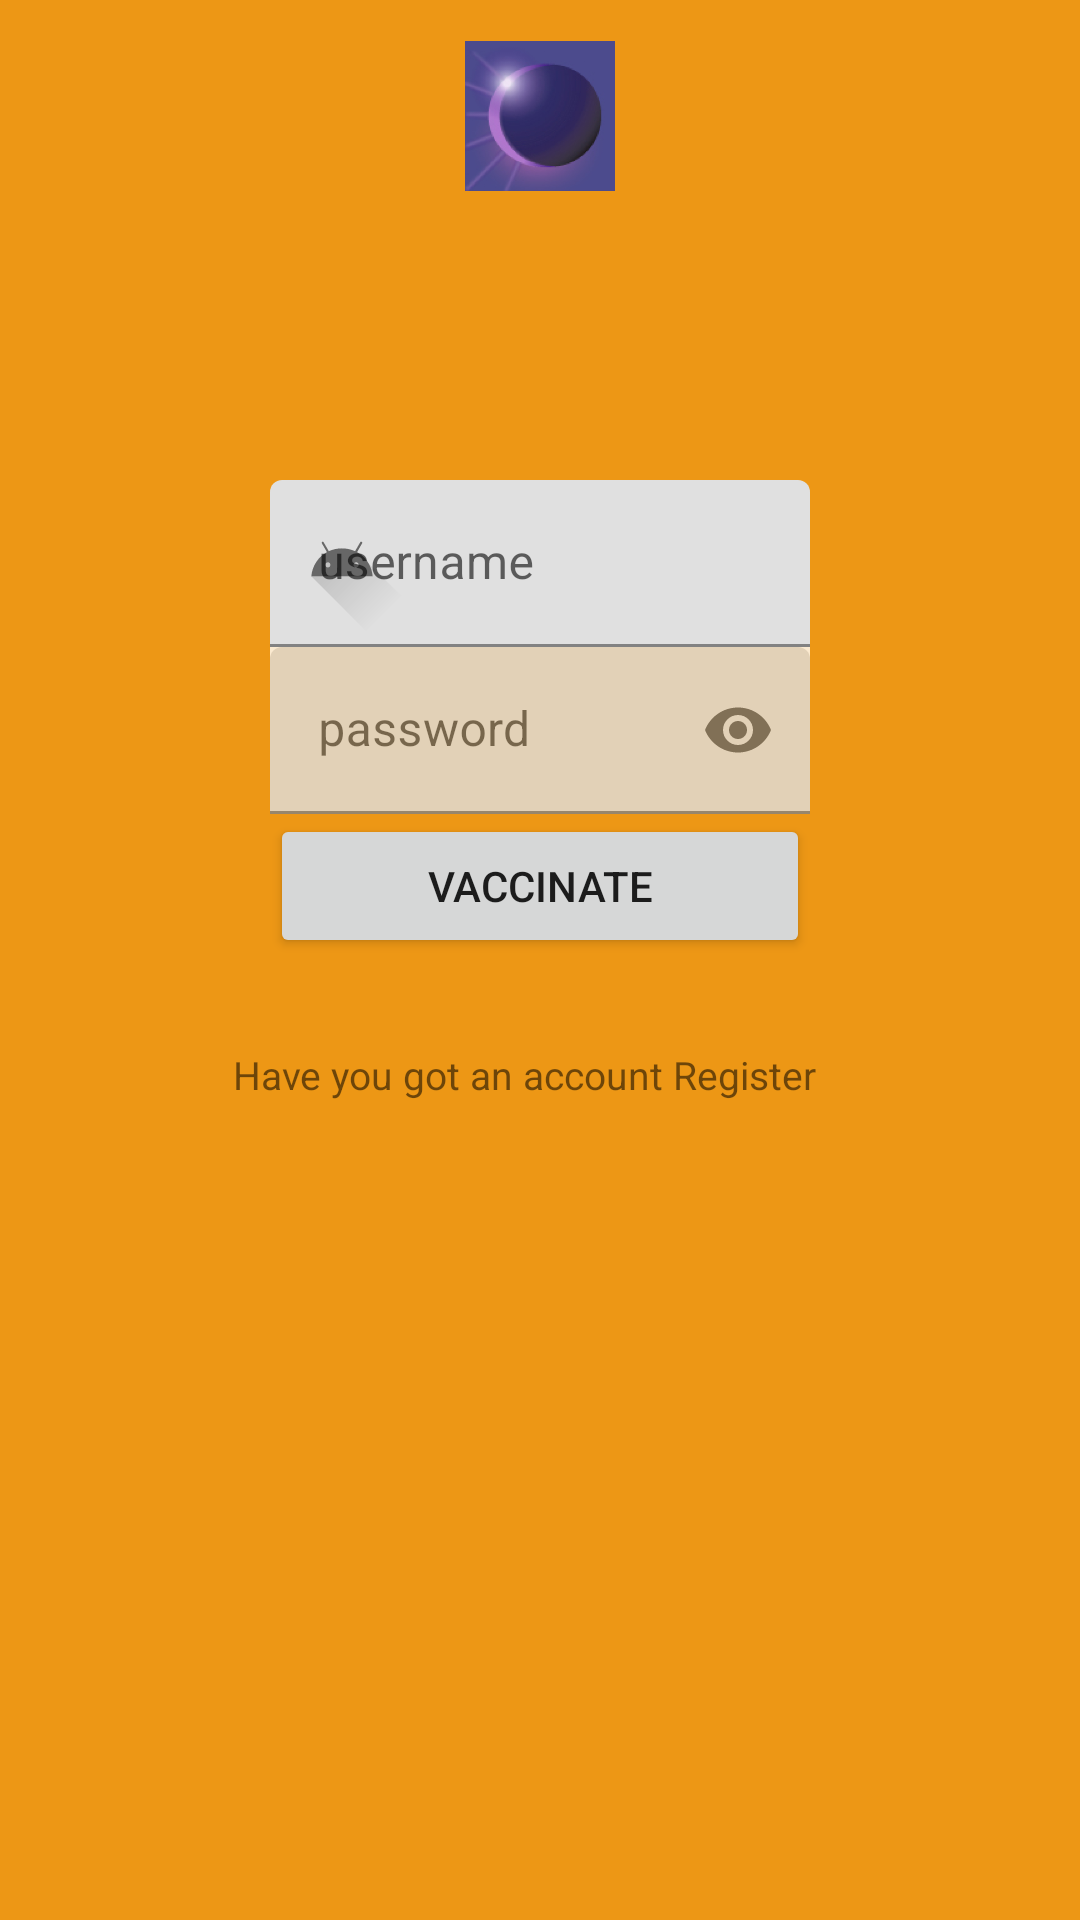

Point at icon controls on the screen. Image size 1080w x 1920h, points as [x,y].
eclipse: [540,116]
